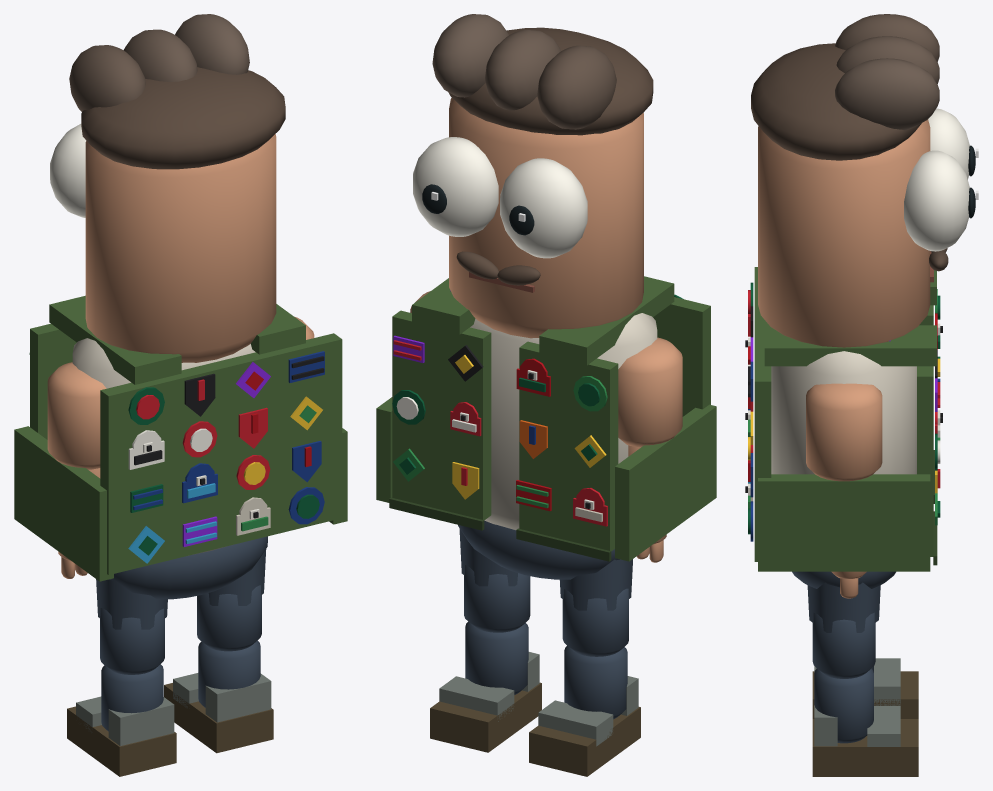
The model's file is spectator_11.glb.
3 renders of one model, left to right at view 1: azimuth 30°, elevation 25°; view 2: azimuth 150°, elevation 25°; view 3: azimuth 270°, elevation 25°, orthographic. The views are drawn at different scales.
Parts seen in each view (by area): view 1: RallySpectator, Head, LeftShin, RightShin, LeftLeg, LeftArm, RightLeg; view 2: RallySpectator, Head, LeftShin, RightShin, LeftArm, LeftLeg, RightLeg; view 3: Head, RallySpectator, RightShin, RightArm, RightLeg, LeftShin, RightForearm.
Part boxes in pixels (<box>): RallySpectator: <box>14,295,347,599</box>; Head: <box>50,14,285,362</box>; LeftShin: <box>67,664,176,776</box>; RightShin: <box>164,640,273,753</box>; LeftLeg: <box>96,579,167,674</box>; LeftArm: <box>47,362,106,469</box>; RightLeg: <box>197,549,266,651</box>; RallySpectator: <box>376,276,716,579</box>; Head: <box>413,14,653,338</box>; LeftShin: <box>529,646,640,776</box>; RightShin: <box>430,621,541,752</box>; LeftArm: <box>618,337,682,447</box>; LeftLeg: <box>559,559,632,656</box>; RightLeg: <box>459,528,530,632</box>; Head: <box>751,14,978,347</box>; RallySpectator: <box>745,267,942,588</box>; RightShin: <box>812,668,918,776</box>; RightArm: <box>806,383,882,481</box>; RightLeg: <box>807,582,880,678</box>; LeftShin: <box>812,658,918,718</box>; RightForearm: <box>831,571,866,598</box>.
Bounding box in the file's own units: 0.9 × 2.34 × 0.7035.
